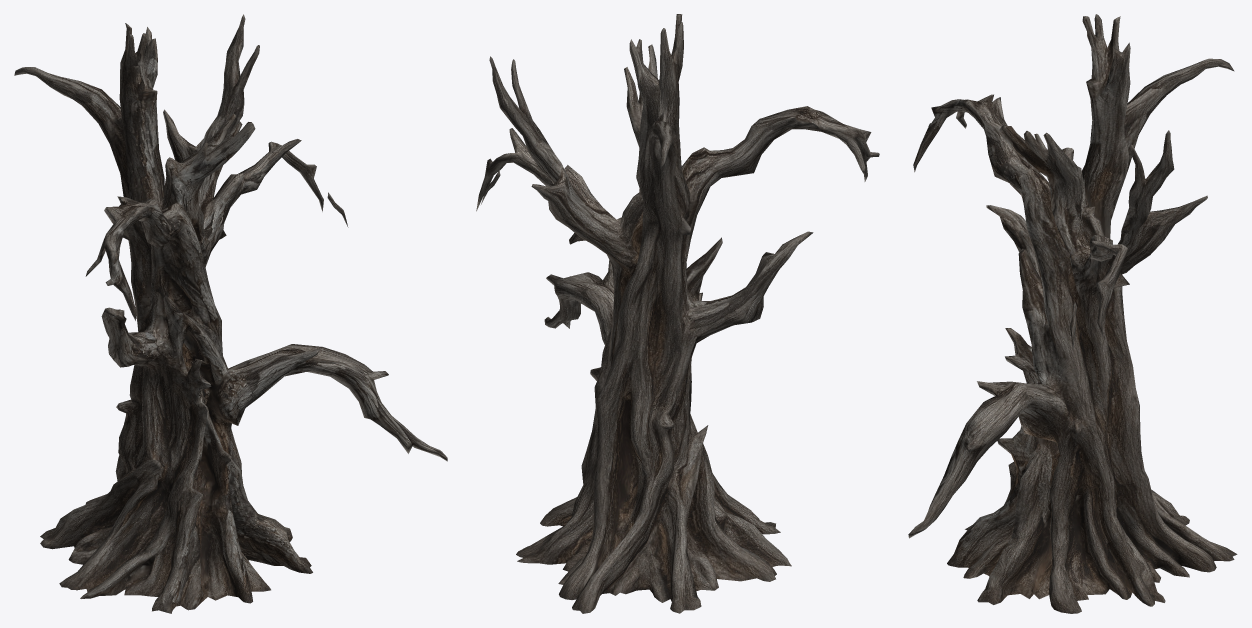
The model's file is tree_twisted.glb.
The picture shows the model from 3 angles, left to right: view 1: azimuth 30°, elevation 25°; view 2: azimuth 150°, elevation 25°; view 3: azimuth 270°, elevation 25°; orthographic projection. The views are drawn at different scales.
Visible parts, largest first — view 1: tree_twisted; view 2: tree_twisted; view 3: tree_twisted.
Part boxes in pixels (x1,y1,x2,y2): tree_twisted: [14, 14, 447, 613]; tree_twisted: [476, 14, 879, 613]; tree_twisted: [908, 14, 1237, 613].
Size of the model in its own units: 66.25 by 100 by 56.37.
1 material, 1 textured.
